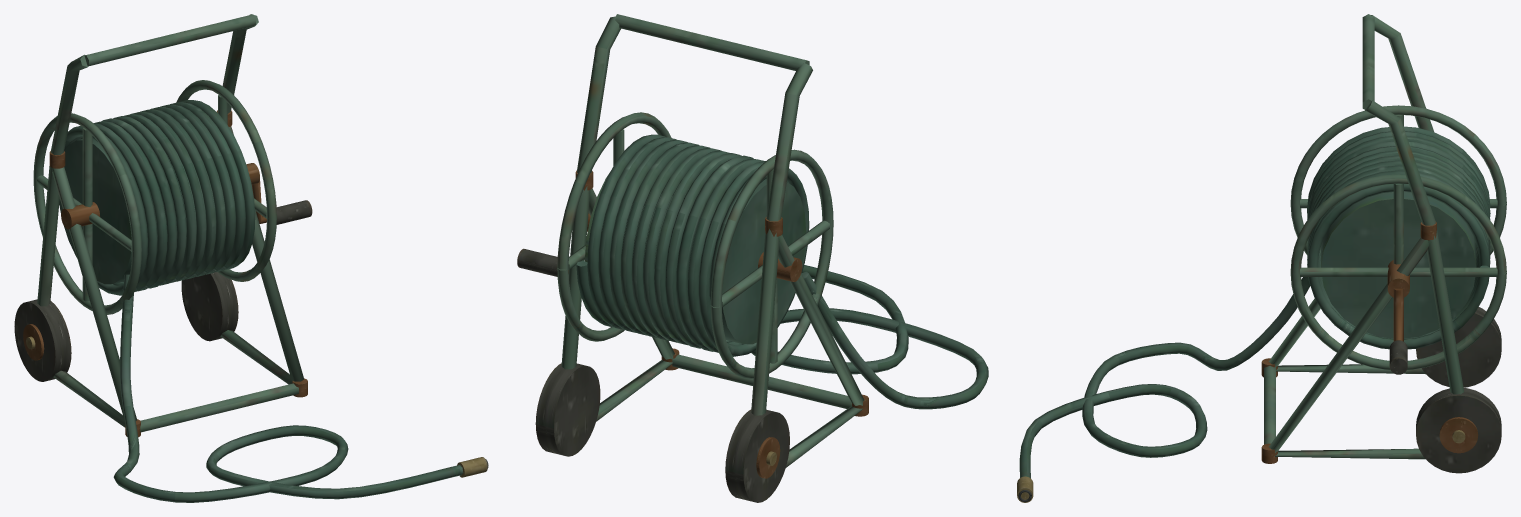
File: by_hose_reel.glb
3 views of the same model, side by side, from view 1: azimuth 30°, elevation 25°; view 2: azimuth 150°, elevation 25°; view 3: azimuth 270°, elevation 25° (orthographic). The views are drawn at different scales.
Visible parts, largest first — view 1: by_hose_reel; view 2: by_hose_reel; view 3: by_hose_reel.
Boxes of the visible parts, x1=… form: by_hose_reel: x1=14, y1=14, x2=488, y2=502; by_hose_reel: x1=517, y1=14, x2=988, y2=502; by_hose_reel: x1=1017, y1=14, x2=1506, y2=502.
Size of the model in its own units: 0.833 by 0.9511 by 1.14.
1 material, 1 textured.
